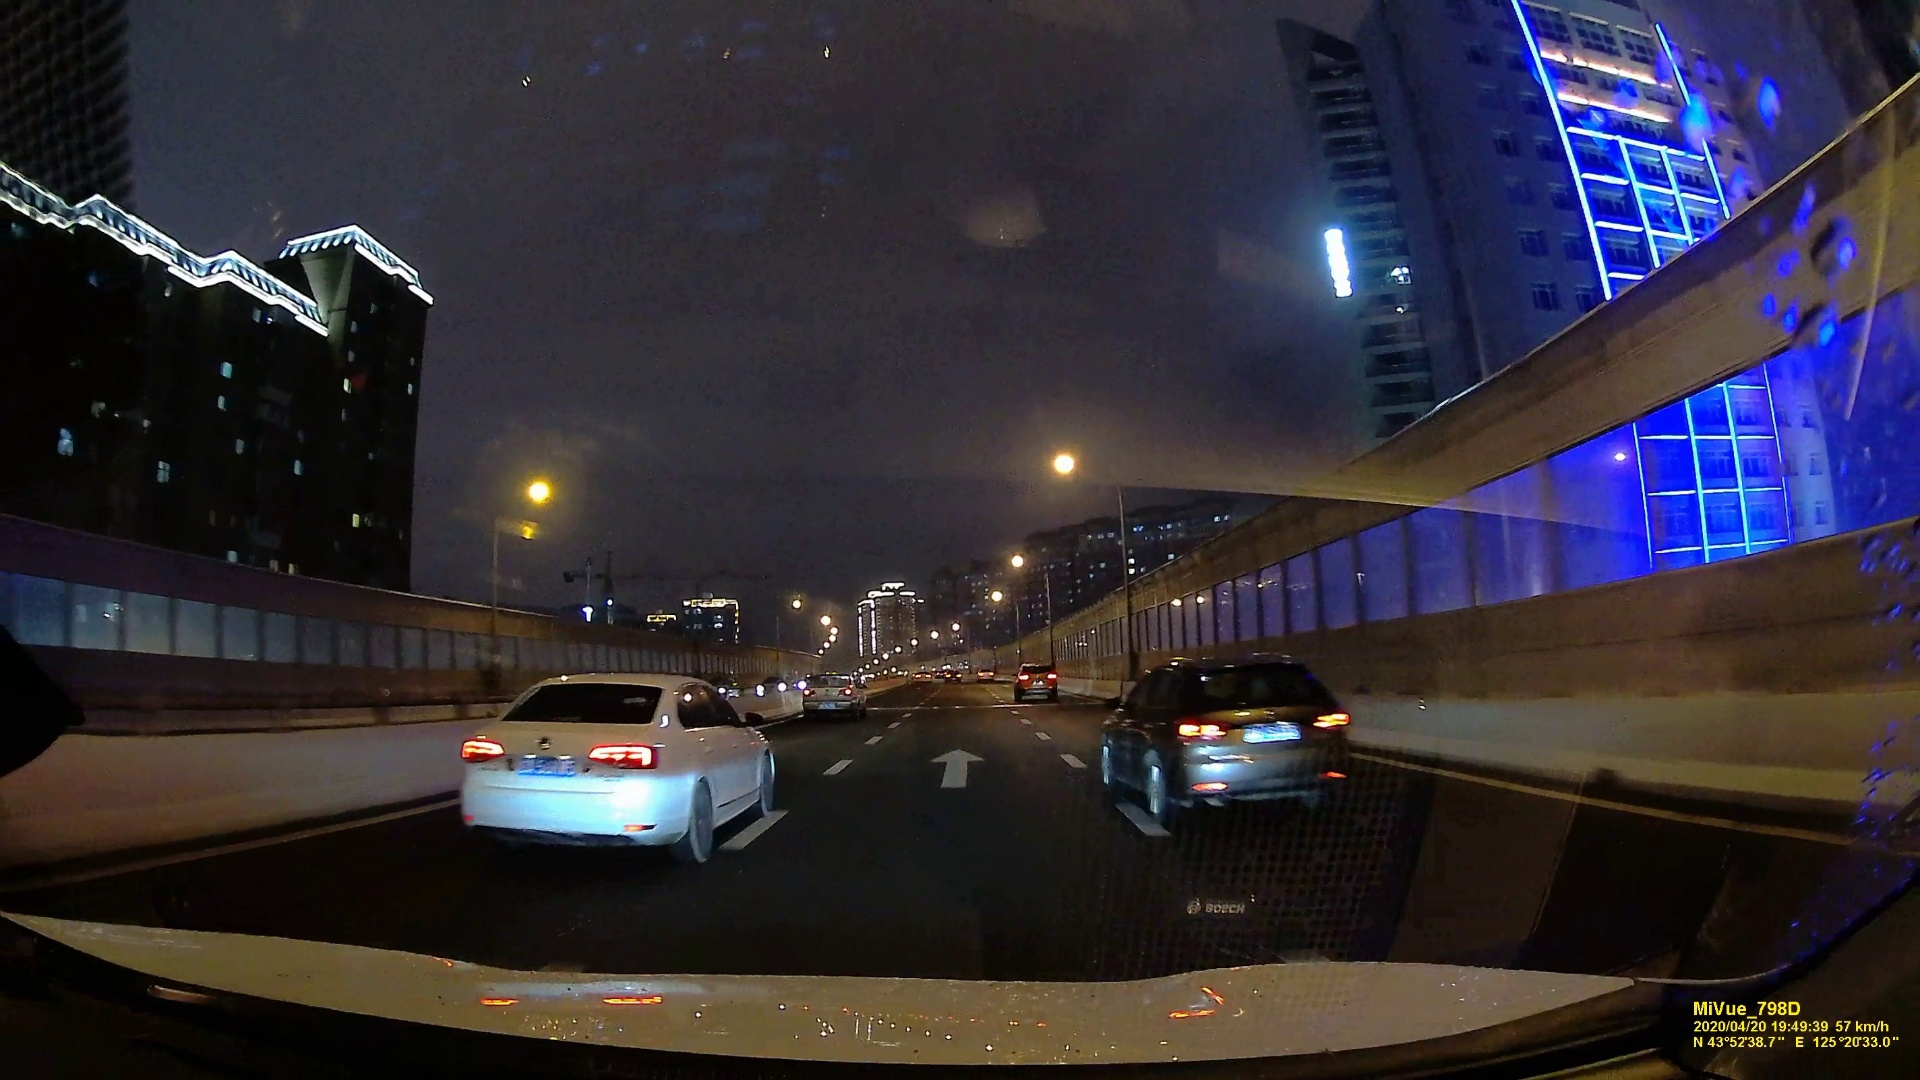vehicle: (451, 670, 779, 865), (1095, 662, 1348, 824), (800, 676, 866, 717), (1013, 662, 1060, 700), (977, 667, 996, 683)
